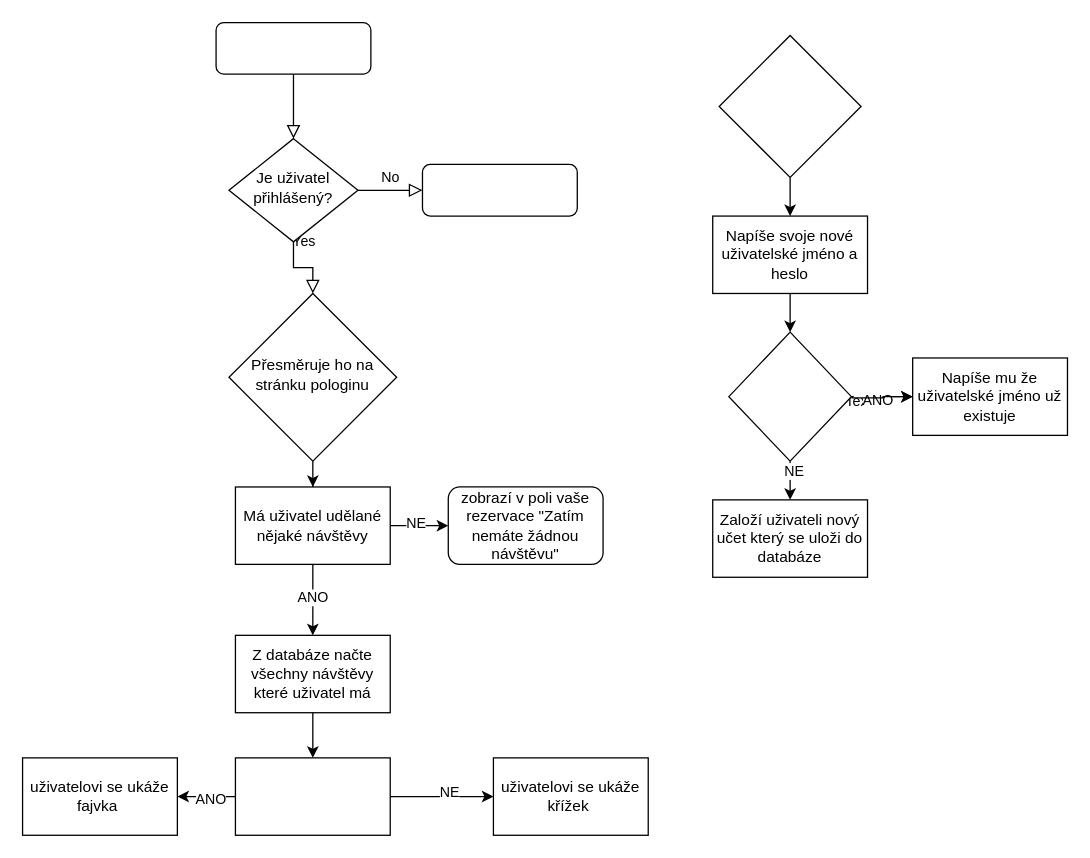
Image size: 1090x858. Some labels were removed from this diagram. Here are the shapes that lost their labels. From the top down, the centre of each, then its label:
(293,47): Kliknutí na stránku rezervace
(789,105): Uživatel není zaregistrovanej
(499,189): nechá ho na stránce rezervace aby se přihlásil
(789,396): Existuje už uživatelské jméno?
(312,796): Je návštěva potvrzená adminem v aplikaci?
